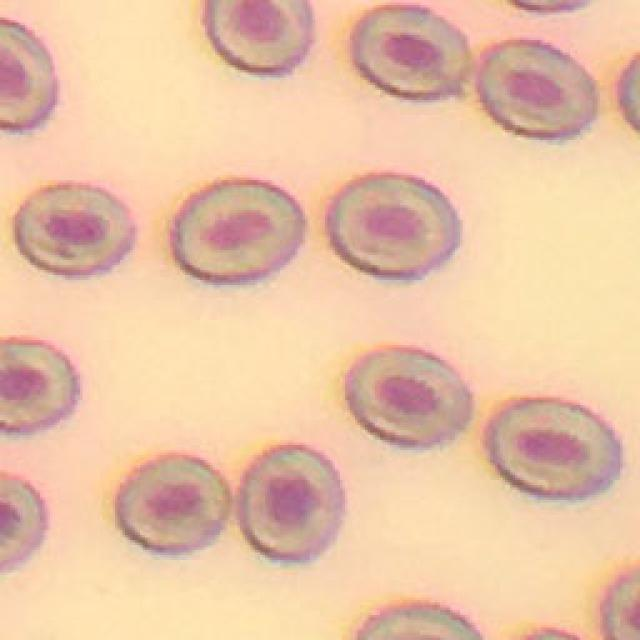RBC: (488, 400, 625, 501), (172, 180, 305, 284), (330, 175, 462, 278), (348, 348, 472, 449), (240, 448, 345, 562), (480, 40, 600, 139), (352, 5, 470, 100), (118, 455, 230, 555), (15, 185, 135, 275), (205, 0, 315, 78), (0, 340, 80, 431), (0, 18, 58, 130), (0, 475, 48, 574), (360, 605, 482, 640)
